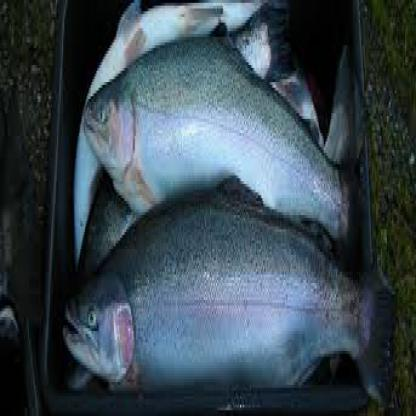fish: (64, 171, 398, 413), (83, 23, 366, 256)
